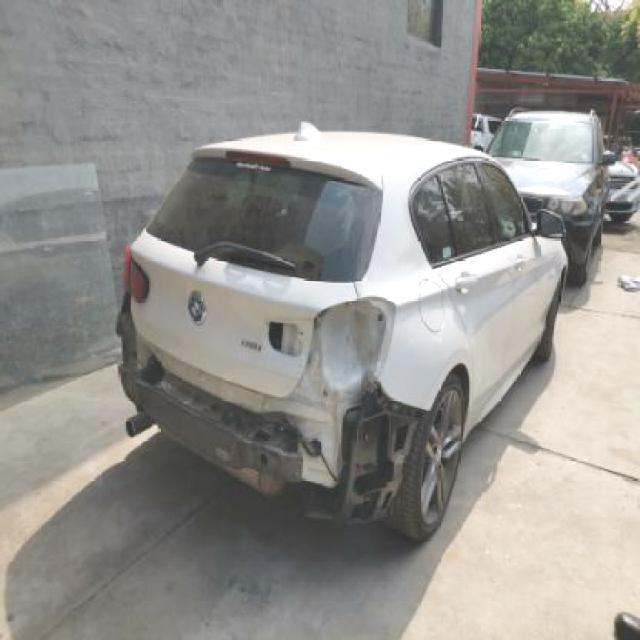minor: (115, 262, 426, 525)
